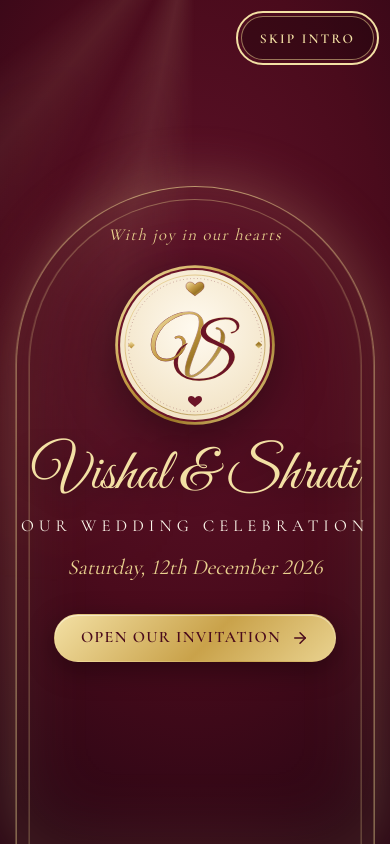
Test: navigation › toggles the mobile menu and exposes aria-expanded
The width and height of the screenshot is (390, 844).
Click the button "Skip intro" at (307, 38), box [241,16,374,60]
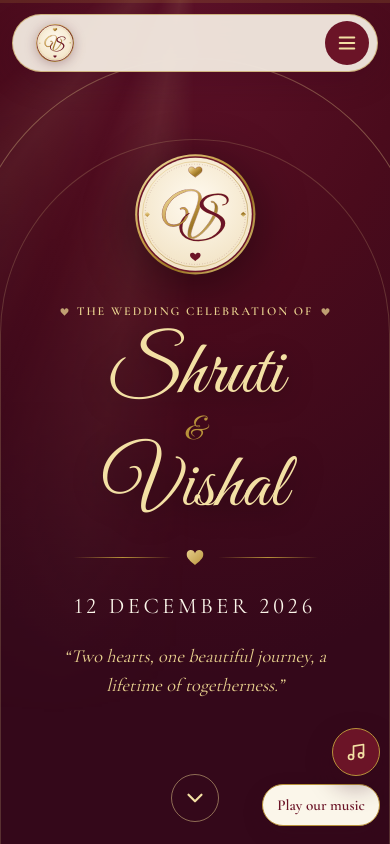
Click the button named "open menu" at (347, 43), box [325,21,369,65]
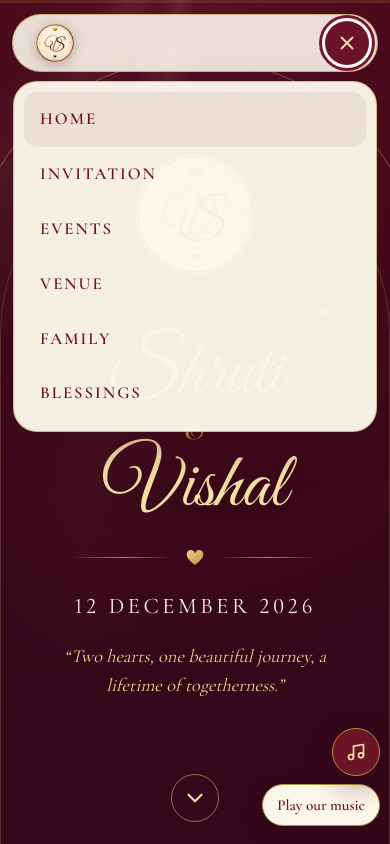
Check: the button named "close menu" is expanded, box [325,21,369,65]
